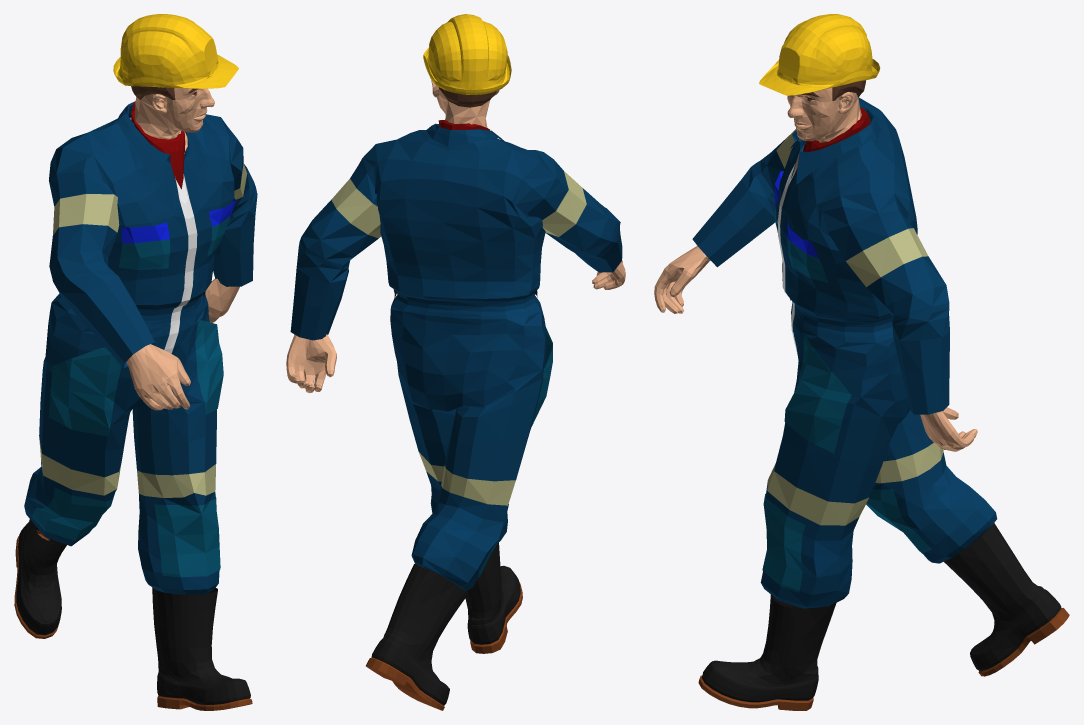
File: Worker_001.fbx
3 renders of one model, left to right at view 1: azimuth 30°, elevation 25°; view 2: azimuth 150°, elevation 25°; view 3: azimuth 270°, elevation 25°, orthographic. The views are drawn at different scales.
Parts seen in each view (by area): view 1: X3GPL_COL_MAT\, X3GPL_COL_MAT2\, SKP_*39_1282f7f\, SKP_*40_1282f7f\, SKP_<auto>11_1282f7f\, X3GPL_COL_MAT1\, SKP_*7_1282f7f\, SKP_*38_1282f7f\, SKP_*37_1282f7f\, X3GPL_COL_MAT3\, SKP_*42_1282f7f\; view 2: X3GPL_COL_MAT\, SKP_*39_1282f7f\, SKP_<auto>11_1282f7f\, X3GPL_COL_MAT1\, SKP_*40_1282f7f\, SKP_*38_1282f7f\, X3GPL_COL_MAT2\, SKP_*42_1282f7f\; view 3: X3GPL_COL_MAT\, SKP_*39_1282f7f\, X3GPL_COL_MAT2\, SKP_<auto>11_1282f7f\, X3GPL_COL_MAT1\, SKP_*40_1282f7f\, SKP_*38_1282f7f\, X3GPL_COL_MAT3\.
Boxes of the visible parts, <box> form: X3GPL_COL_MAT\: <box>24,101,257,594</box>; X3GPL_COL_MAT2\: <box>32,198,234,577</box>; SKP_*39_1282f7f\: <box>16,291,250,704</box>; SKP_*40_1282f7f\: <box>126,88,239,410</box>; SKP_<auto>11_1282f7f\: <box>113,14,238,88</box>; X3GPL_COL_MAT1\: <box>39,163,247,497</box>; SKP_*7_1282f7f\: <box>164,174,197,353</box>; SKP_*38_1282f7f\: <box>14,530,252,710</box>; SKP_*37_1282f7f\: <box>121,199,236,243</box>; X3GPL_COL_MAT3\: <box>131,102,185,188</box>; SKP_*42_1282f7f\: <box>131,86,197,99</box>; X3GPL_COL_MAT\: <box>290,123,622,591</box>; SKP_*39_1282f7f\: <box>371,289,537,705</box>; SKP_<auto>11_1282f7f\: <box>423,14,511,94</box>; X3GPL_COL_MAT1\: <box>331,171,586,505</box>; SKP_*40_1282f7f\: <box>286,80,625,393</box>; SKP_*38_1282f7f\: <box>366,582,522,710</box>; X3GPL_COL_MAT2\: <box>477,328,552,576</box>; SKP_*42_1282f7f\: <box>438,87,496,107</box>; X3GPL_COL_MAT\: <box>692,97,997,608</box>; SKP_*39_1282f7f\: <box>702,299,1061,702</box>; X3GPL_COL_MAT2\: <box>762,206,931,592</box>; SKP_<auto>11_1282f7f\: <box>759,14,880,95</box>; X3GPL_COL_MAT1\: <box>767,129,943,525</box>; SKP_*40_1282f7f\: <box>654,87,977,451</box>; SKP_*38_1282f7f\: <box>698,608,1069,710</box>; X3GPL_COL_MAT3\: <box>803,108,870,151</box>.
Size of the model in its own units: 735 by 972 by 1782.
